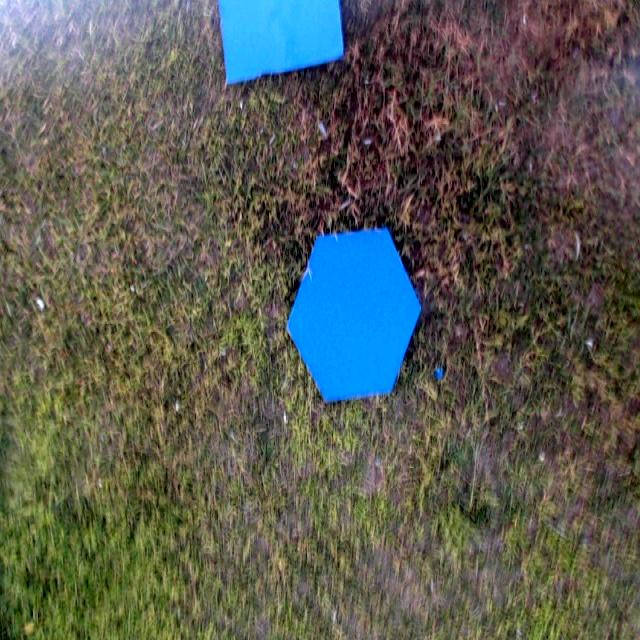blue_hexagon: (286, 228, 423, 404)
